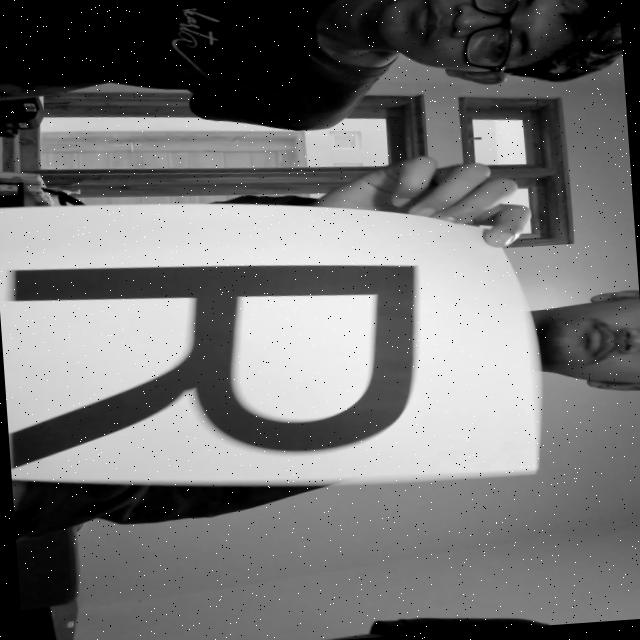r: (0, 232, 454, 480)
